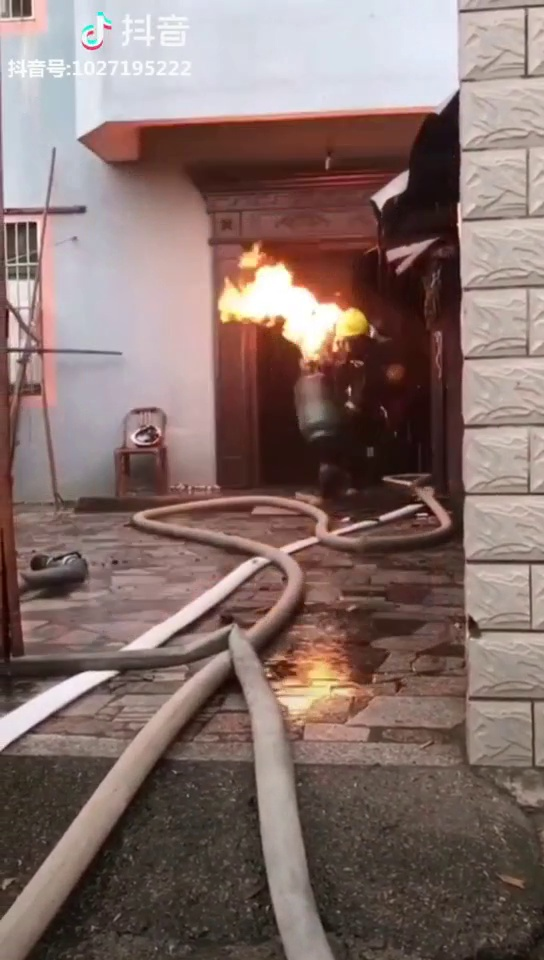fire: (210, 241, 337, 356)
